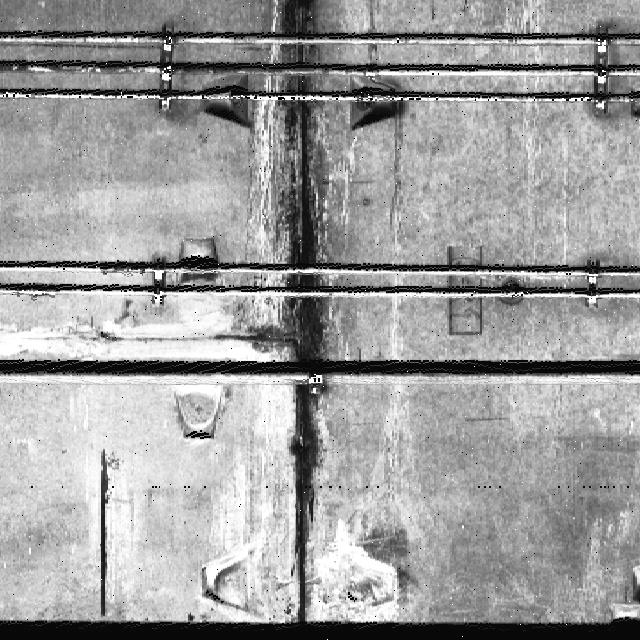leakage: (254, 1, 347, 621)
